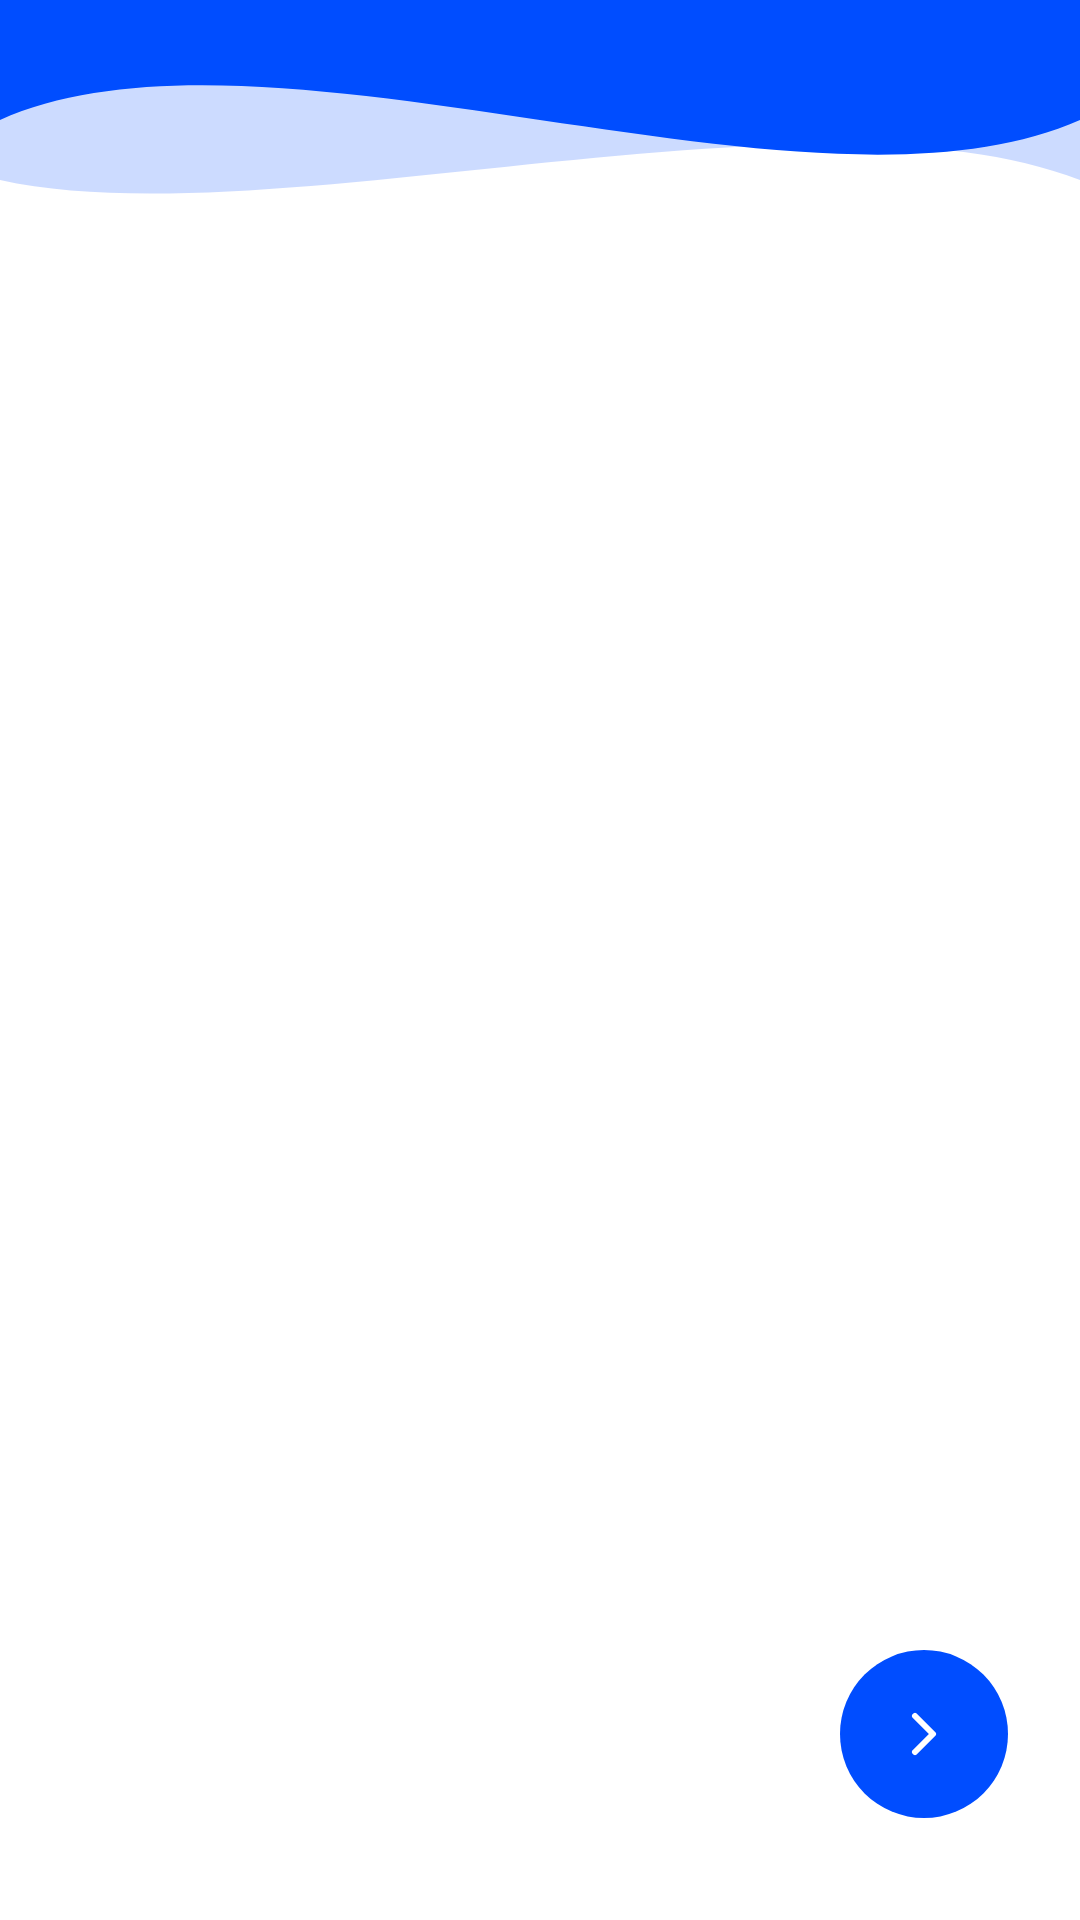

Named icons in this screenshot (1080*1920) and their centers, (x,y):
arrow right: (924,1734)
